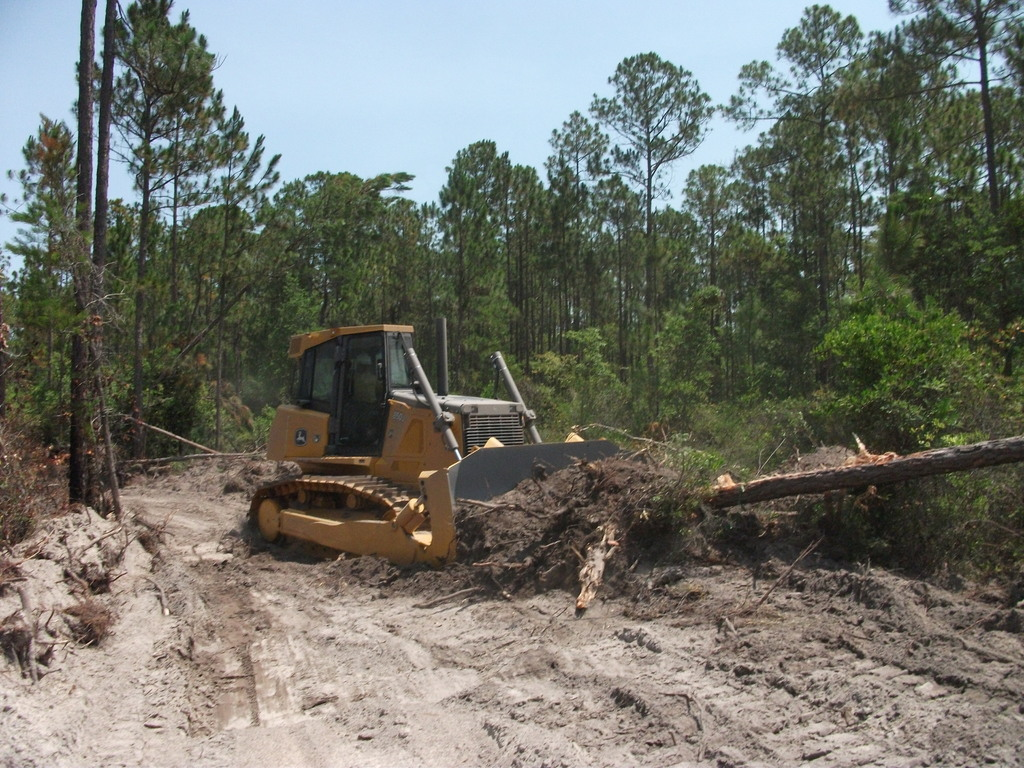Tree: (0, 0, 1024, 515)
